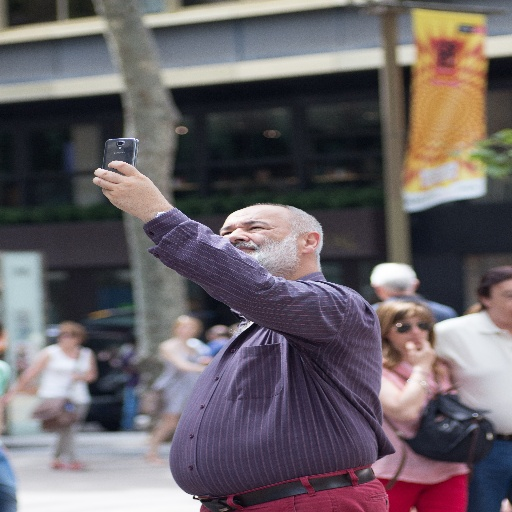hand: (84, 154, 186, 222), (404, 337, 436, 368)
